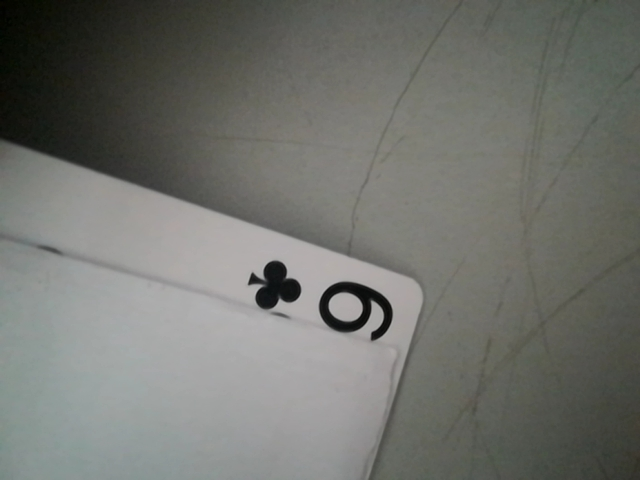mh 6: (230, 255, 409, 347)
